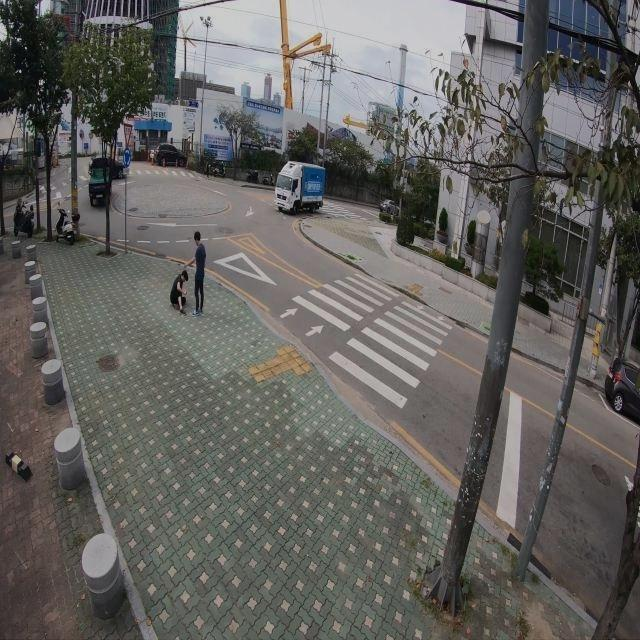fight: (167, 227, 210, 314)
